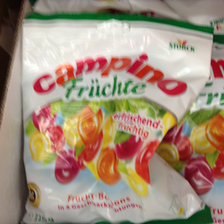candy: (23, 16, 202, 222)
